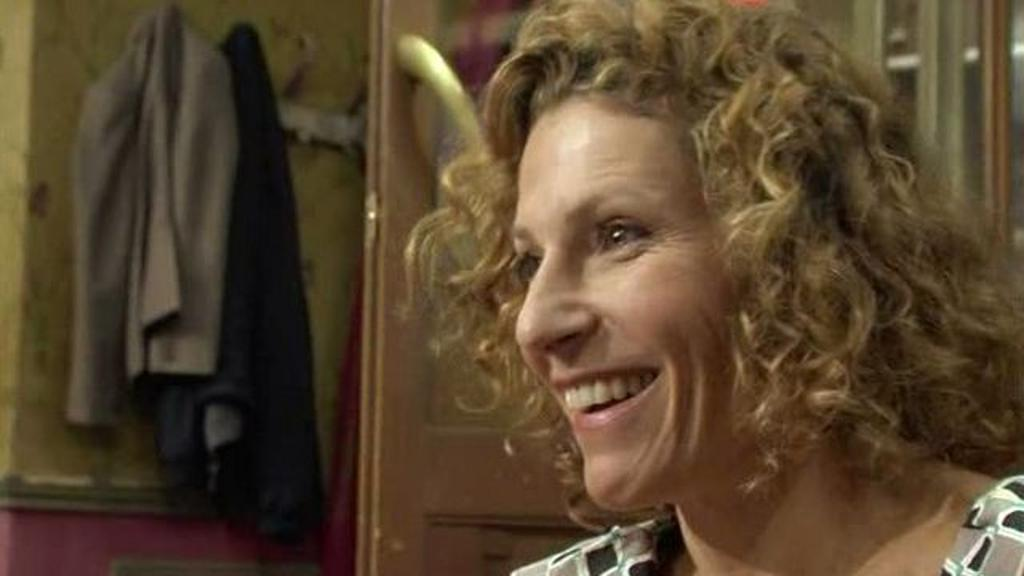face: (512, 94, 772, 508)
